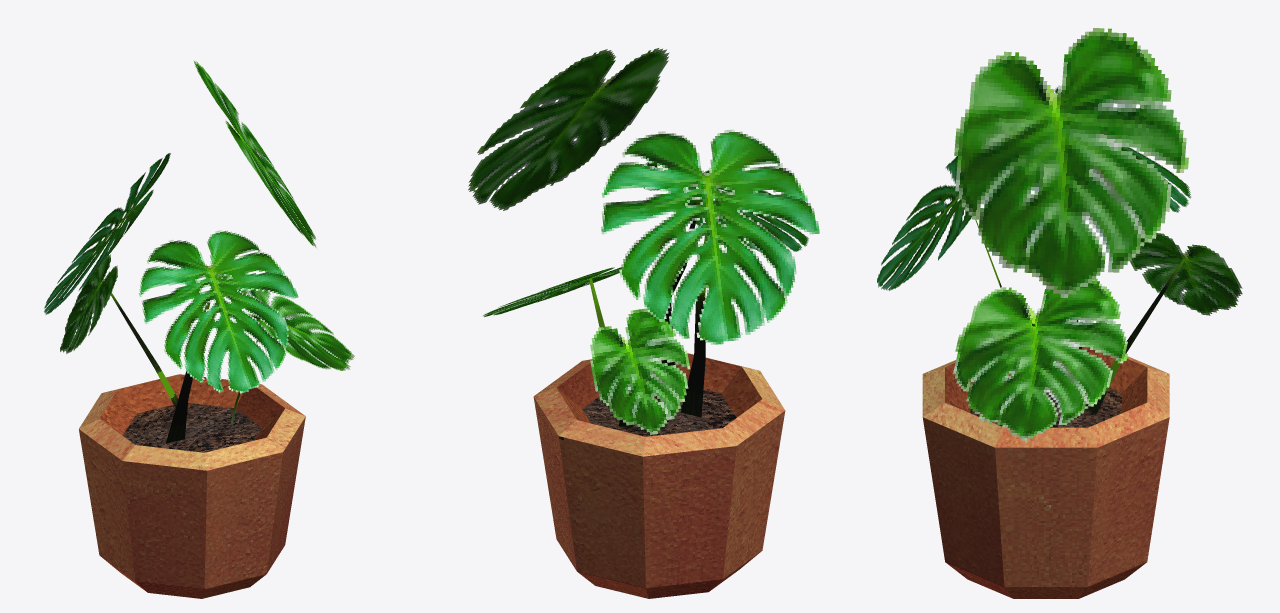
The picture shows the model from 3 angles, left to right: view 1: azimuth 30°, elevation 25°; view 2: azimuth 150°, elevation 25°; view 3: azimuth 270°, elevation 25°; orthographic projection. The views are drawn at different scales.
Parts seen in each view (by area): view 1: cylinder, plane (×7); view 2: plane (×6), cylinder; view 3: plane (×6), cylinder.
Part boxes in pixels (left/top/right/bottom): cylinder: left=79, top=374, right=305, bottom=598; plane (×7): left=44, top=61, right=354, bottom=443; plane (×6): left=468, top=48, right=819, bottom=434; cylinder: left=533, top=353, right=785, bottom=598; plane (×6): left=877, top=28, right=1242, bottom=440; cylinder: left=922, top=347, right=1169, bottom=598.
Bounding box in the file's own units: 1.55 × 2.07 × 1.29.
3 materials, 3 textured.
